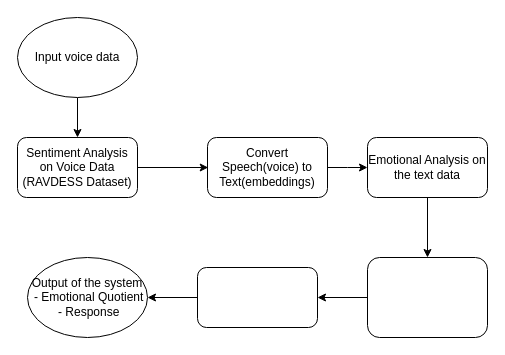
This 505x355 diagram has some shape labels left out. Each missing label, with the centre of its shape:
Combine the results using custom mapping to get: "Emotional Quotient": [427,297]
Explore generation/response dataset building: [257,297]
